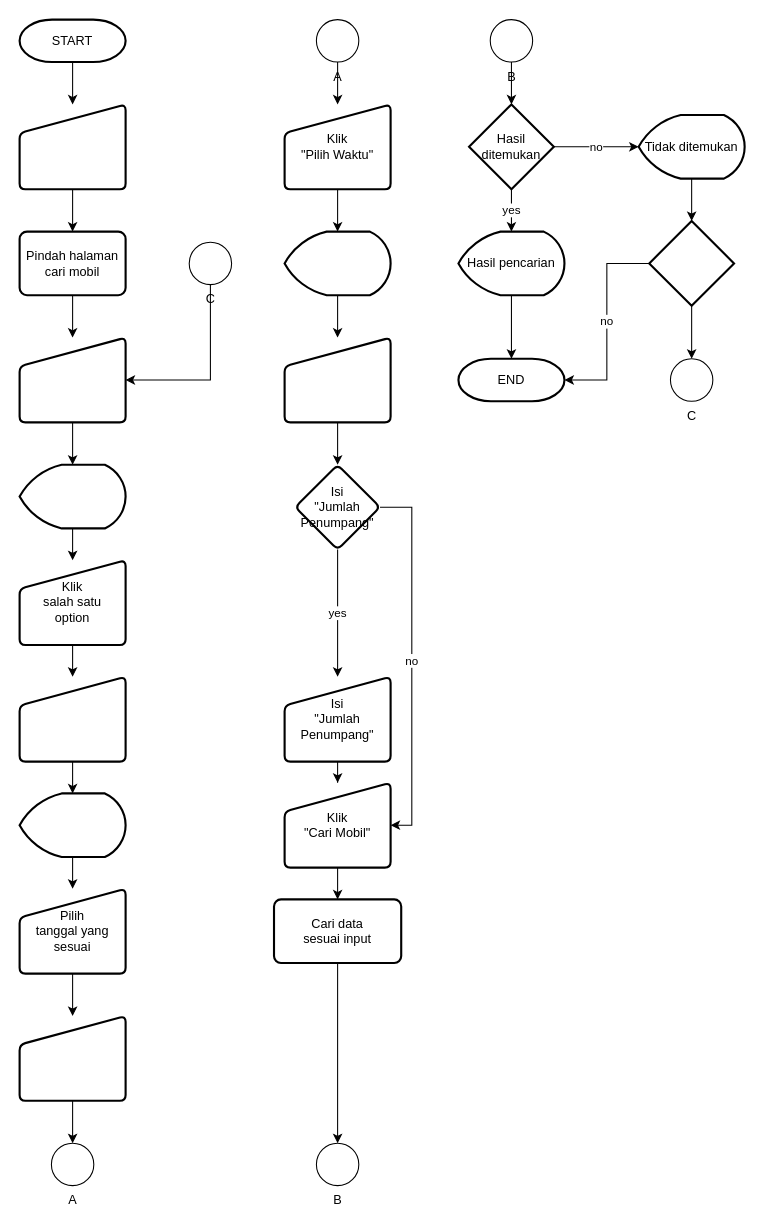
Some shapes in this 763 by 1225 pixel diagram are drawn without their labels. Each missing label, with the centre of its shape:
Calendar Selection: (x=72, y=825)
Cari lagi: (x=691, y=262)
Klik "Mulai Sewa Mobil": (x=72, y=146)
Klik "Pilih Tanggal": (x=72, y=718)
Klik "Pilih Tipe Driver": (x=72, y=379)
Klik Button "Pilih Tanggal": (x=72, y=1057)
Klik salah satu pilihan waktu: (x=337, y=379)
Pilihan Tipe Driver: (x=72, y=496)
Pilihan Waktu: (x=337, y=263)
